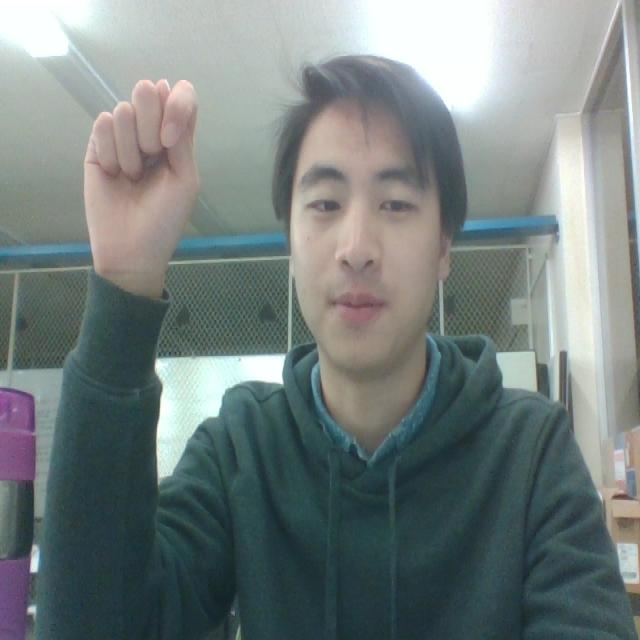T: (57, 58, 220, 296)
